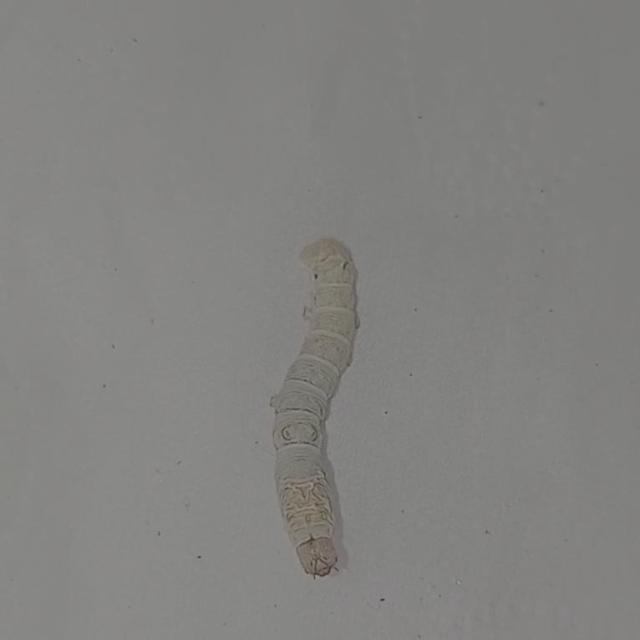Healthy: (246, 167, 392, 603)
